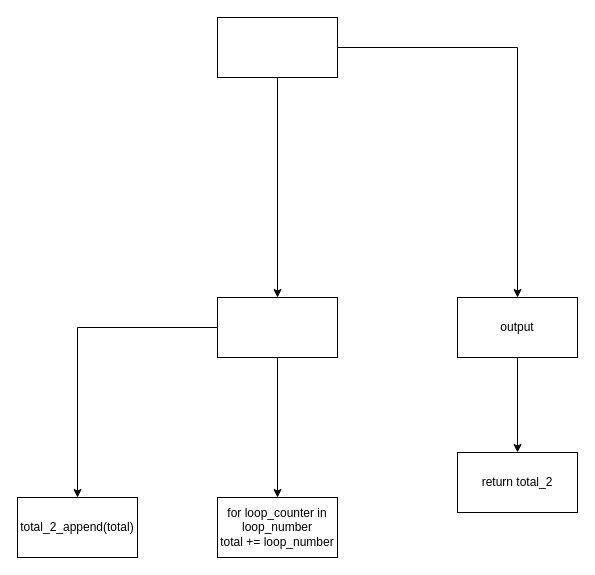
This 595x575 diagram has some shape labels left out. Here are the shapes that lost their labels. From the top down, the centre of each, then its label:
(277,47): perfect square
(277,327): process
